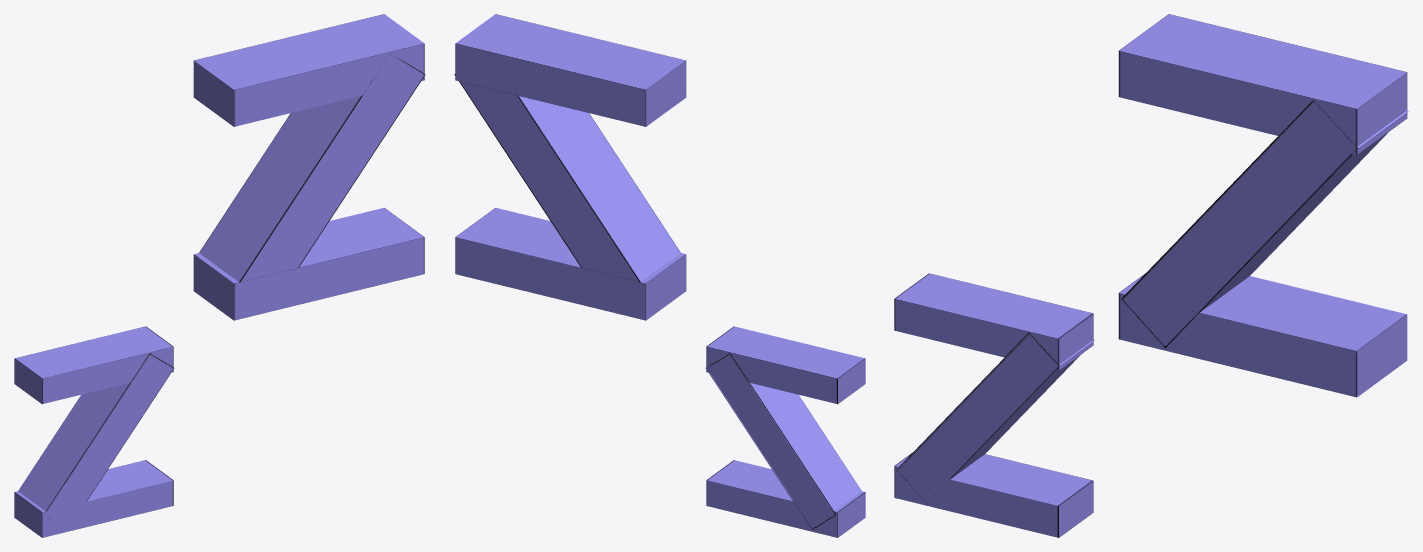
File: Sleep.obj
3 views of the same model, side by side, from view 1: azimuth 30°, elevation 25°; view 2: azimuth 150°, elevation 25°; view 3: azimuth 330°, elevation 25° (orthographic). The views are drawn at different scales.
Visible parts, largest first — view 1: 立方体.002_立方体.003; view 2: 立方体.002_立方体.003; view 3: 立方体.002_立方体.003.
Boxes of the visible parts, left/top/right/bottom form: 立方体.002_立方体.003: left=14, top=14, right=425, bottom=537; 立方体.002_立方体.003: left=454, top=14, right=865, bottom=537; 立方体.002_立方体.003: left=894, top=14, right=1408, bottom=537.
Size of the model in its own units: 9.12 by 9.41 by 1.69.
1 material, 1 textured.
